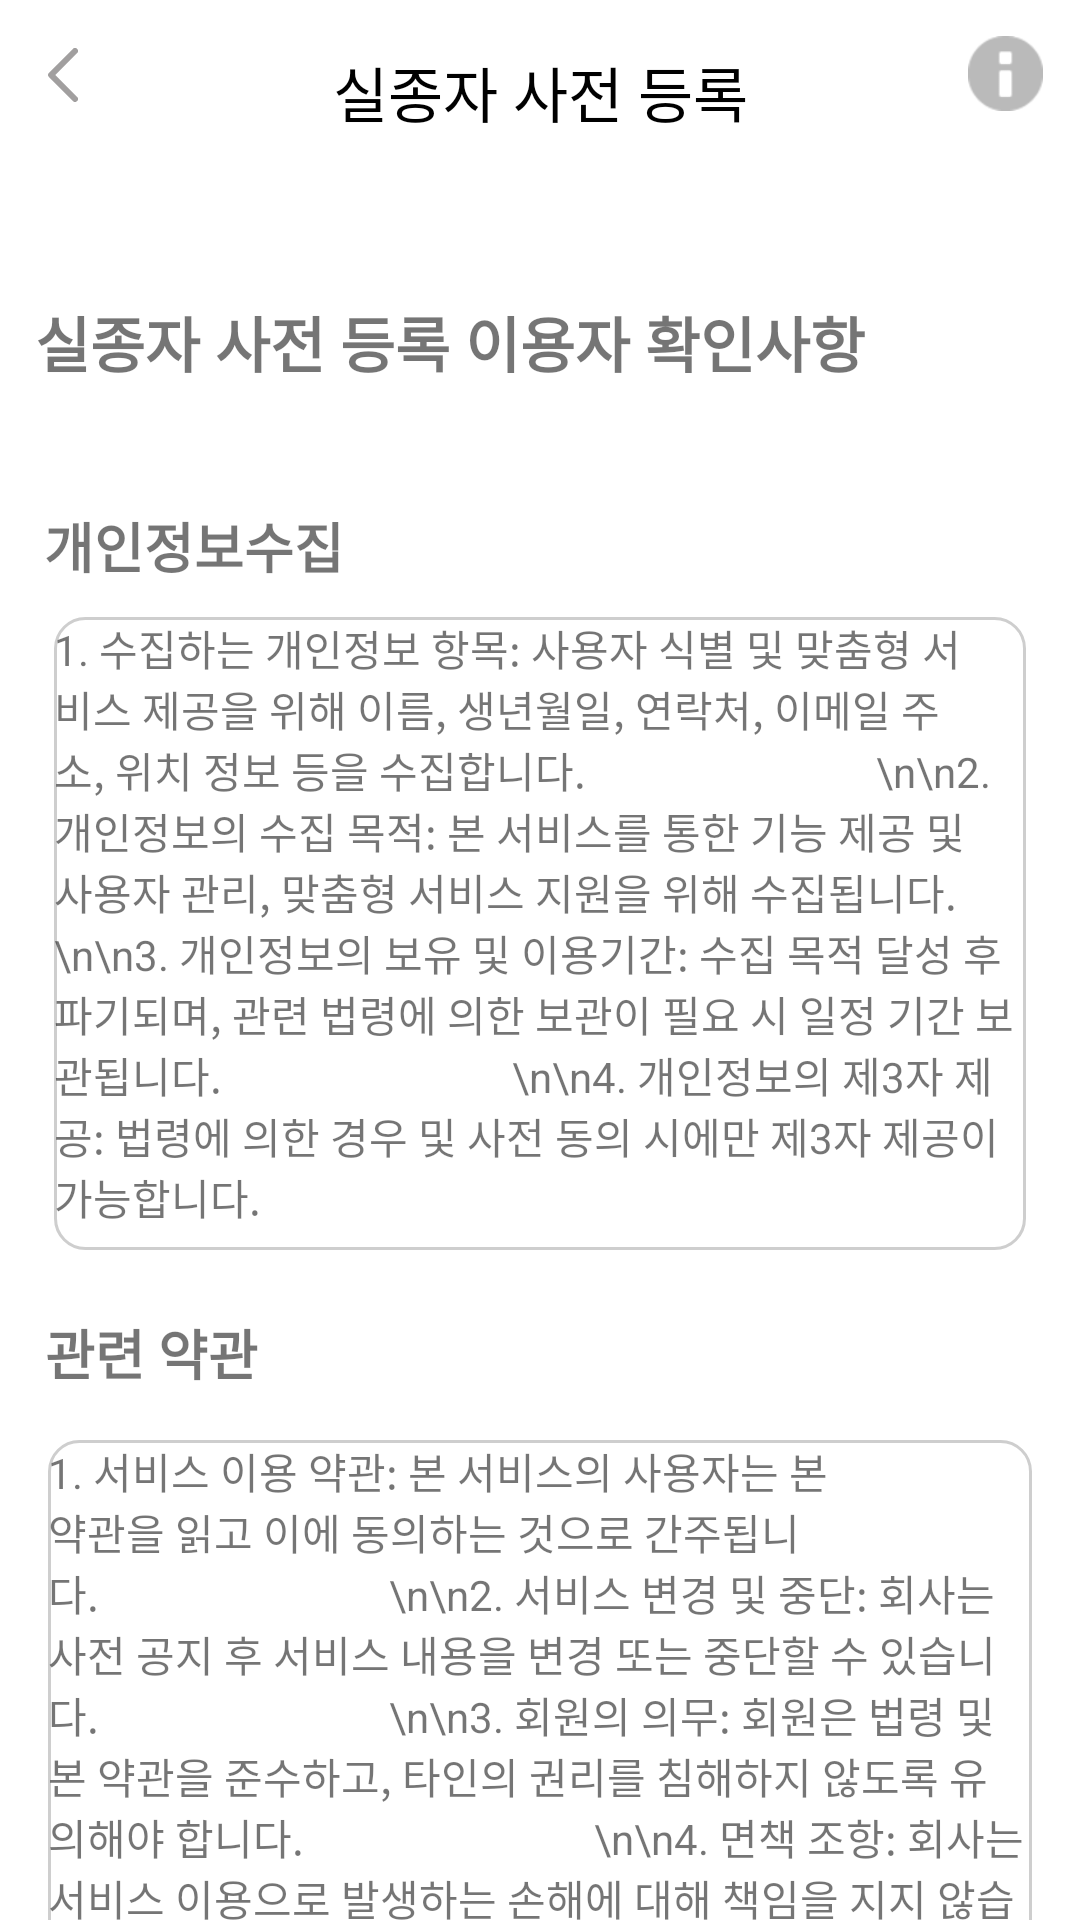

Icons on this 1080*1920 Android screen, each with its box as (x1, y1, x2, y2):
back: (48, 48, 78, 102)
info: (968, 36, 1043, 111)
